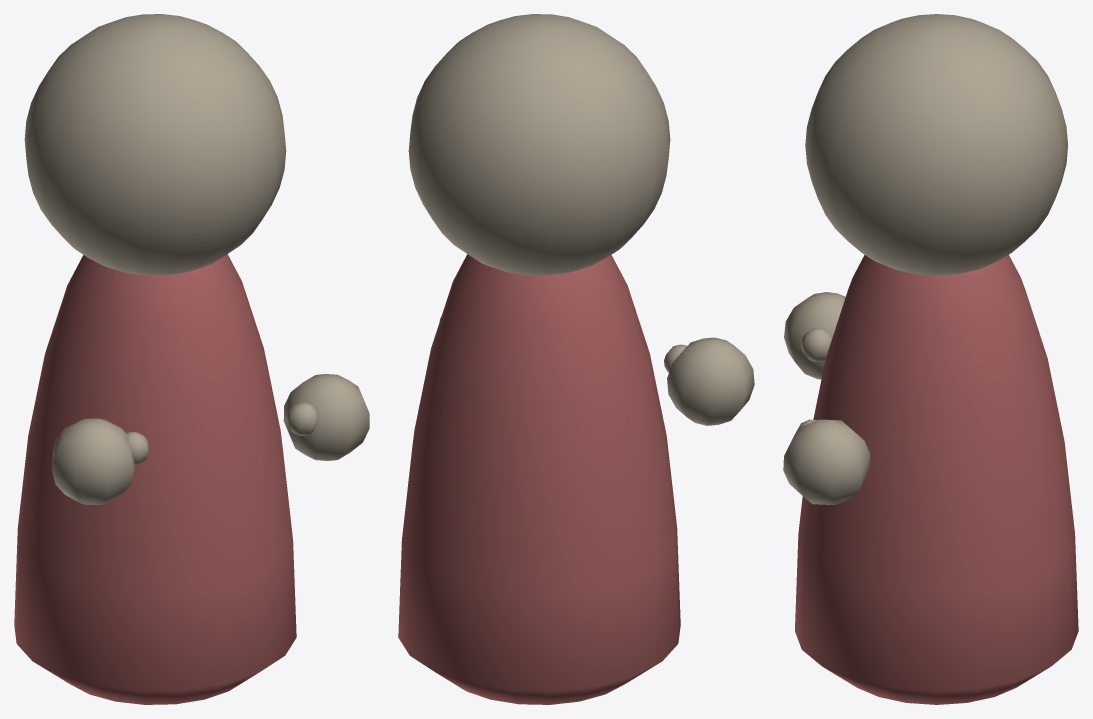
File: Person_01.fbx
3 renders of one model, left to right at view 1: azimuth 30°, elevation 25°; view 2: azimuth 150°, elevation 25°; view 3: azimuth 270°, elevation 25°, orthographic.
Parts seen in each view (by area): view 1: Person_01; view 2: Person_01; view 3: Person_01.
Part boxes in pixels (x1,y1,x2,y2): Person_01: [14, 14, 369, 704]; Person_01: [398, 14, 754, 704]; Person_01: [783, 14, 1078, 704].
Bounding box in the file's own units: 53.23 × 108 × 44.14.
